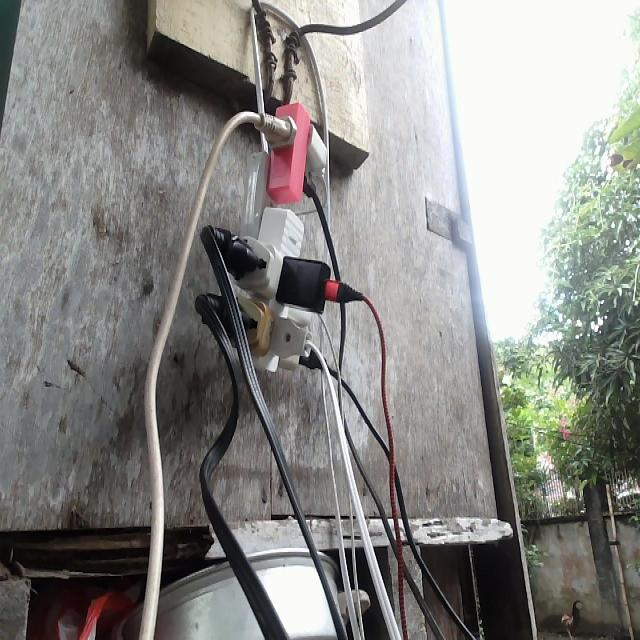-: (219, 100, 342, 375)
